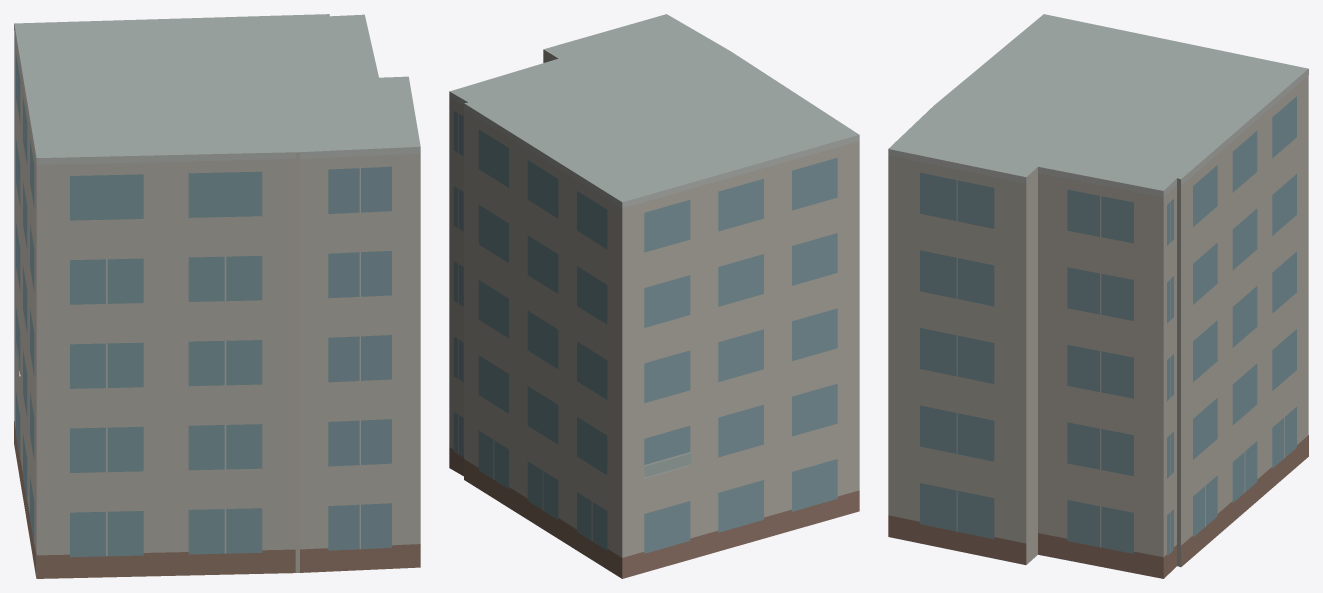
File: survey-upis-32885357.glb
3 views of the same model, side by side, from view 1: azimuth 30°, elevation 25°; view 2: azimuth 150°, elevation 25°; view 3: azimuth 270°, elevation 25° (orthographic). The views are drawn at different scales.
Parts seen in each view (by area): view 1: survey-upis-32885357.tmp; view 2: survey-upis-32885357.tmp; view 3: survey-upis-32885357.tmp.
Boxes of the visible parts, x1,y1,x2,y2 form: survey-upis-32885357.tmp: [14, 14, 420, 578]; survey-upis-32885357.tmp: [449, 14, 859, 578]; survey-upis-32885357.tmp: [888, 14, 1308, 578].
Bounding box in the file's own units: 14.78 × 15.1 × 14.84.
